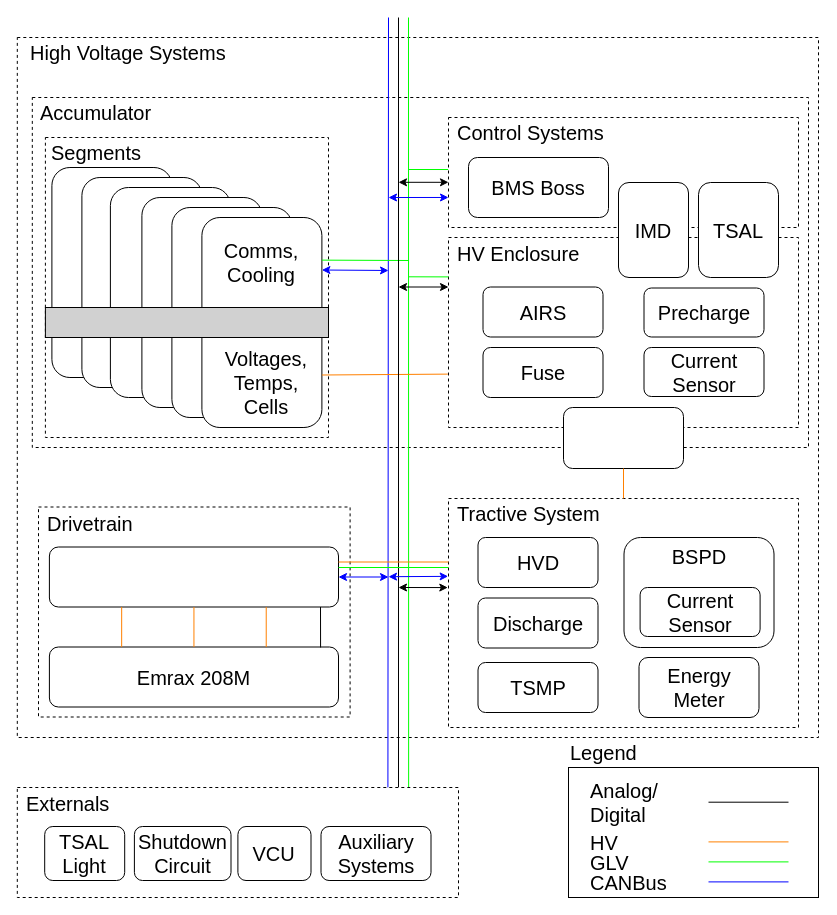
Some shapes in this 837 by 915 pixel diagram are drawn without their labels. The shapes that lost their labels are listed below. From the top down, each one's centre as x and y in pixels, then its label:
At [186,322]: "1.5kV Galvanic Isolation".
At [623,437]: "Connector".
At [193,576]: "Cascadia PM100DXR".
